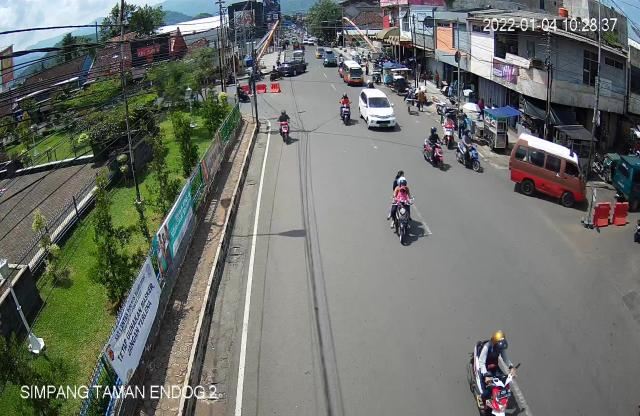Mobil: (508, 133, 592, 215), (355, 88, 403, 132)
Motor: (463, 331, 537, 416), (385, 168, 421, 250), (419, 123, 449, 170), (456, 127, 483, 177), (437, 107, 457, 151), (335, 92, 356, 133), (278, 102, 296, 146)
